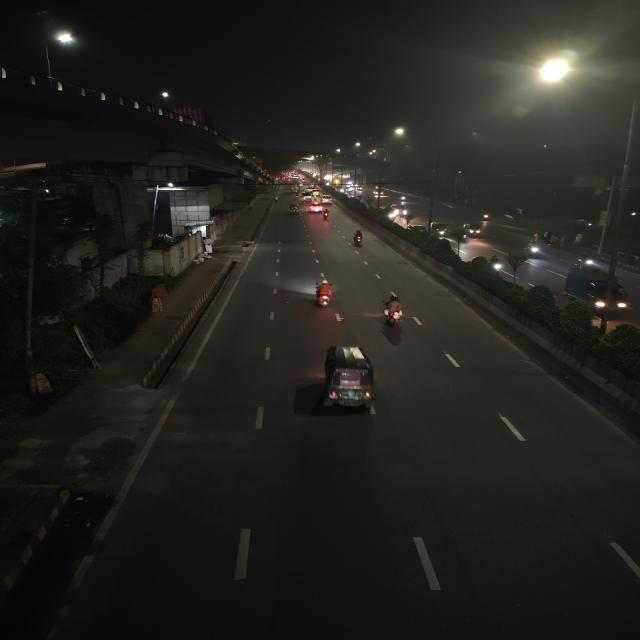car: (308, 203, 322, 213), (319, 194, 332, 204)
cng: (314, 342, 385, 416), (464, 222, 484, 238), (430, 222, 450, 238), (288, 203, 301, 215)
motorcycle: (376, 291, 412, 331), (309, 276, 338, 312), (573, 253, 599, 270), (485, 254, 506, 275), (349, 228, 366, 248), (525, 242, 543, 258), (322, 208, 332, 220)
pickup_van: (560, 267, 633, 316)
